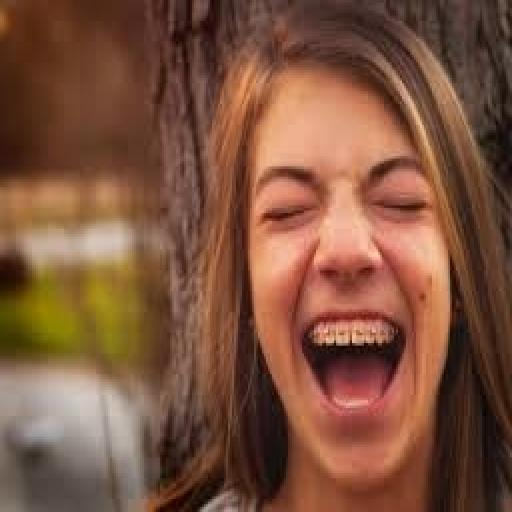laughing: (130, 0, 510, 509)
